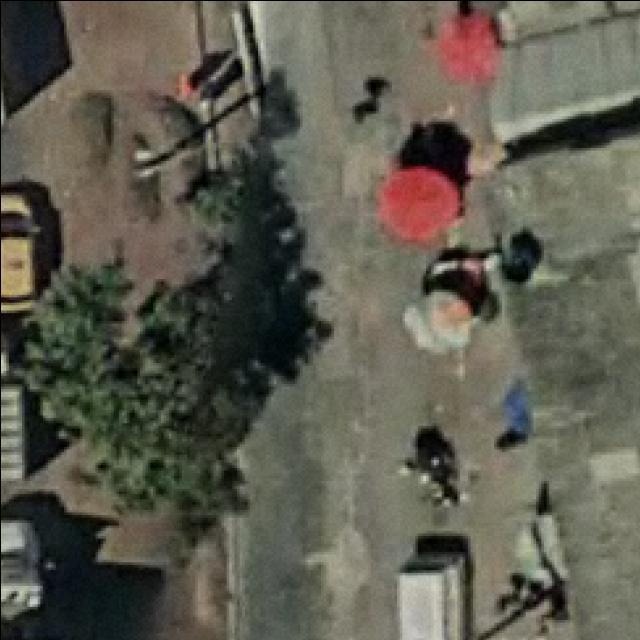vendedor_ambulante: (371, 160, 464, 248), (399, 281, 471, 363)
